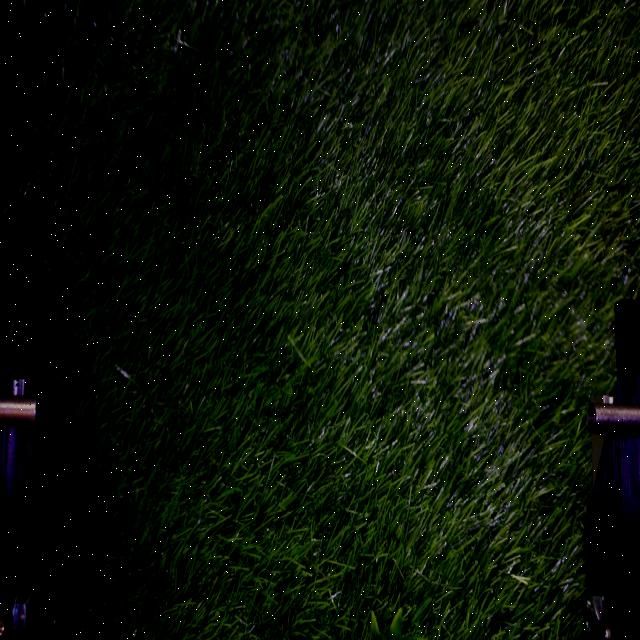dandelion: (0, 0, 632, 621)
